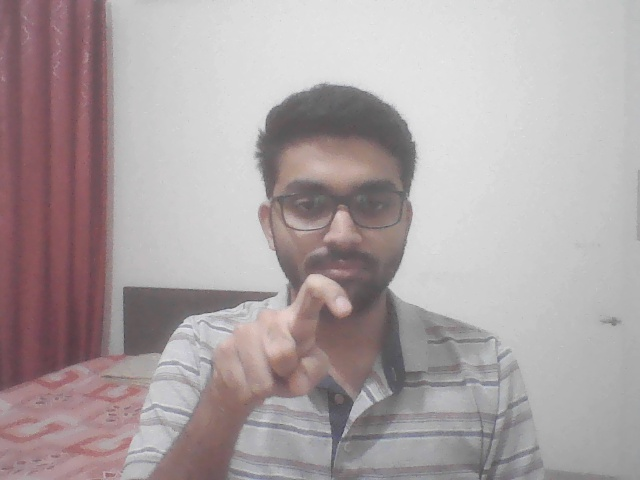need: (144, 269, 405, 474)
